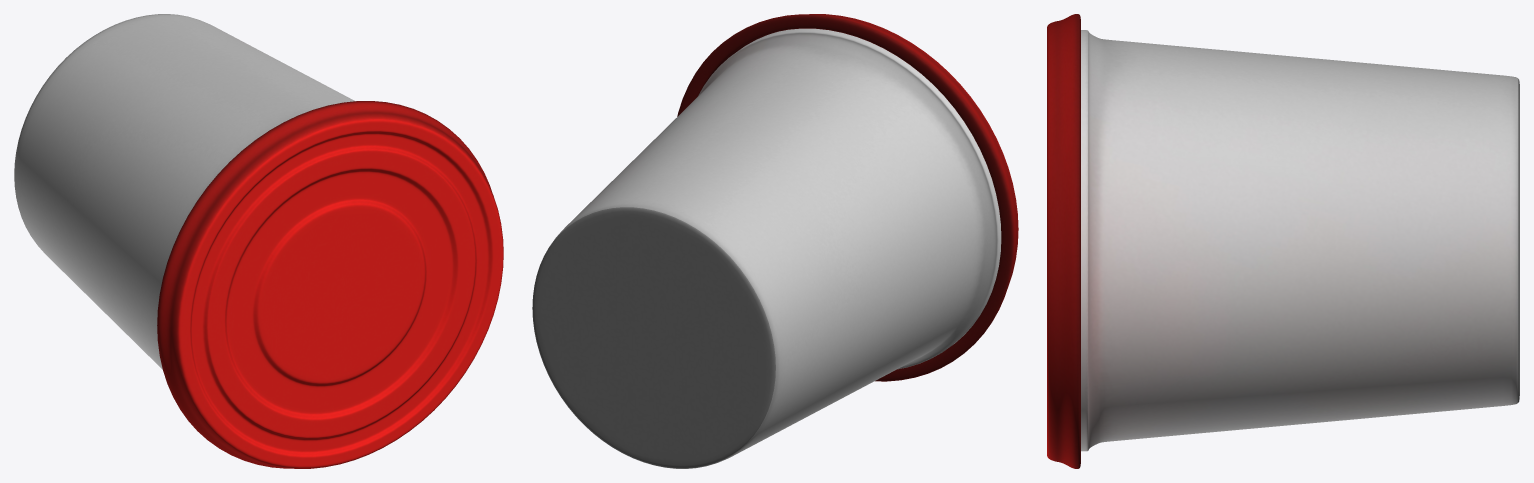
File: 14049_Plastic_food_Storage_v1_L3.obj
The picture shows the model from 3 angles, left to right: view 1: azimuth 30°, elevation 25°; view 2: azimuth 150°, elevation 25°; view 3: azimuth 270°, elevation 25°; orthographic projection. The views are drawn at different scales.
Parts seen in each view (by area): view 1: 14049_Plastic_food_Storage; view 2: 14049_Plastic_food_Storage; view 3: 14049_Plastic_food_Storage.
Part boxes in pixels (<box>): 14049_Plastic_food_Storage: <box>14,14,503,468</box>; 14049_Plastic_food_Storage: <box>532,14,1018,468</box>; 14049_Plastic_food_Storage: <box>1047,14,1519,468</box>.
Bounding box in the file's own units: 4.43 × 4.43 × 4.61.
Materials: 1 (1 with a texture image).
